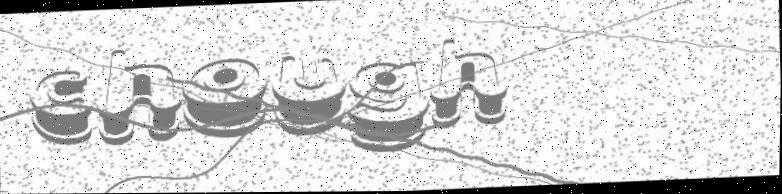c: (27, 68, 97, 147)
g: (345, 58, 432, 154)
h: (94, 44, 185, 147), (428, 36, 511, 129)
o: (180, 54, 271, 140)
u: (270, 51, 348, 138)
